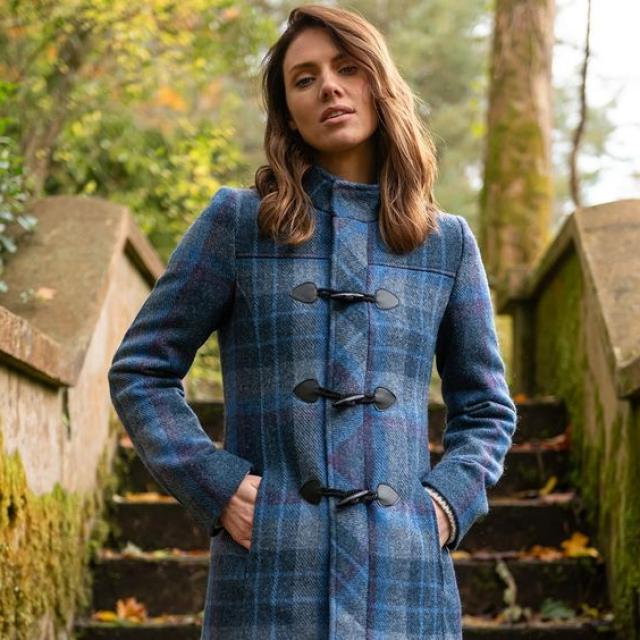coat: (107, 172, 525, 640)
